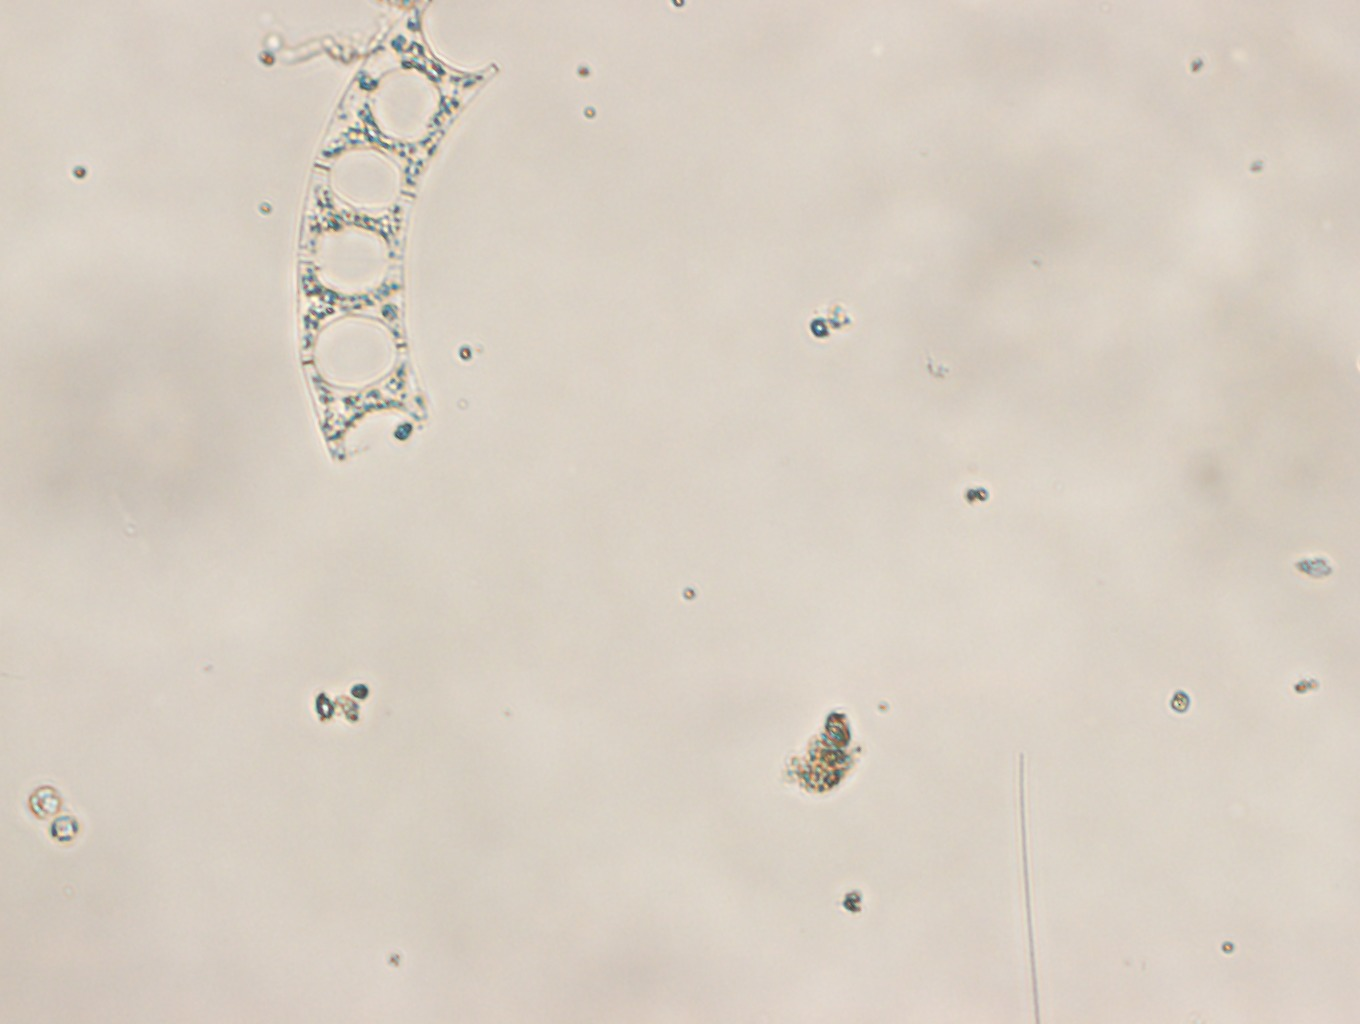eucampia: (290, 1, 499, 463)
